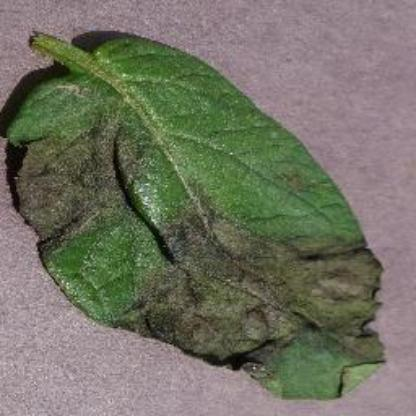Late-Blight: (0, 20, 398, 403)
